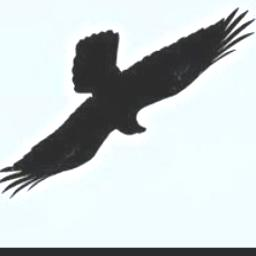Crow: (0, 6, 256, 199)
